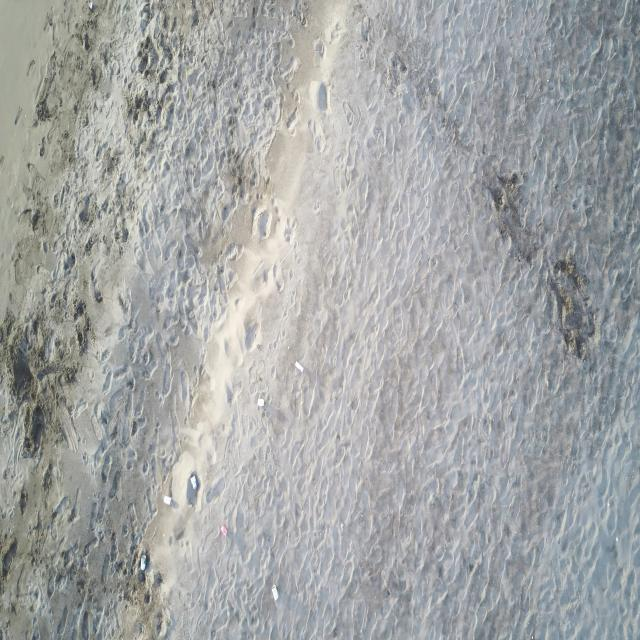Garbage: (187, 472, 199, 504), (136, 552, 148, 582), (295, 360, 303, 372), (272, 584, 278, 600), (190, 473, 196, 488), (220, 524, 227, 535), (163, 495, 171, 504), (256, 397, 263, 407), (140, 552, 143, 572), (88, 0, 92, 9)
